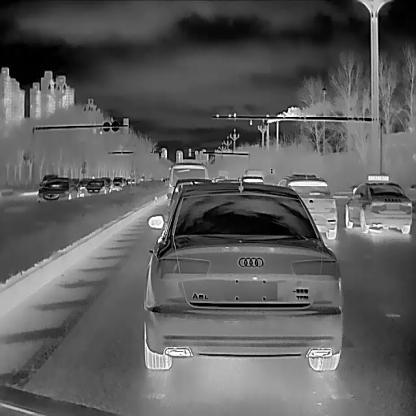car: (143, 182, 344, 369), (276, 173, 338, 241), (343, 174, 414, 231), (167, 161, 208, 210), (170, 178, 207, 220), (36, 178, 78, 206), (83, 180, 109, 198), (243, 168, 263, 186), (240, 177, 262, 189), (111, 176, 122, 192)
